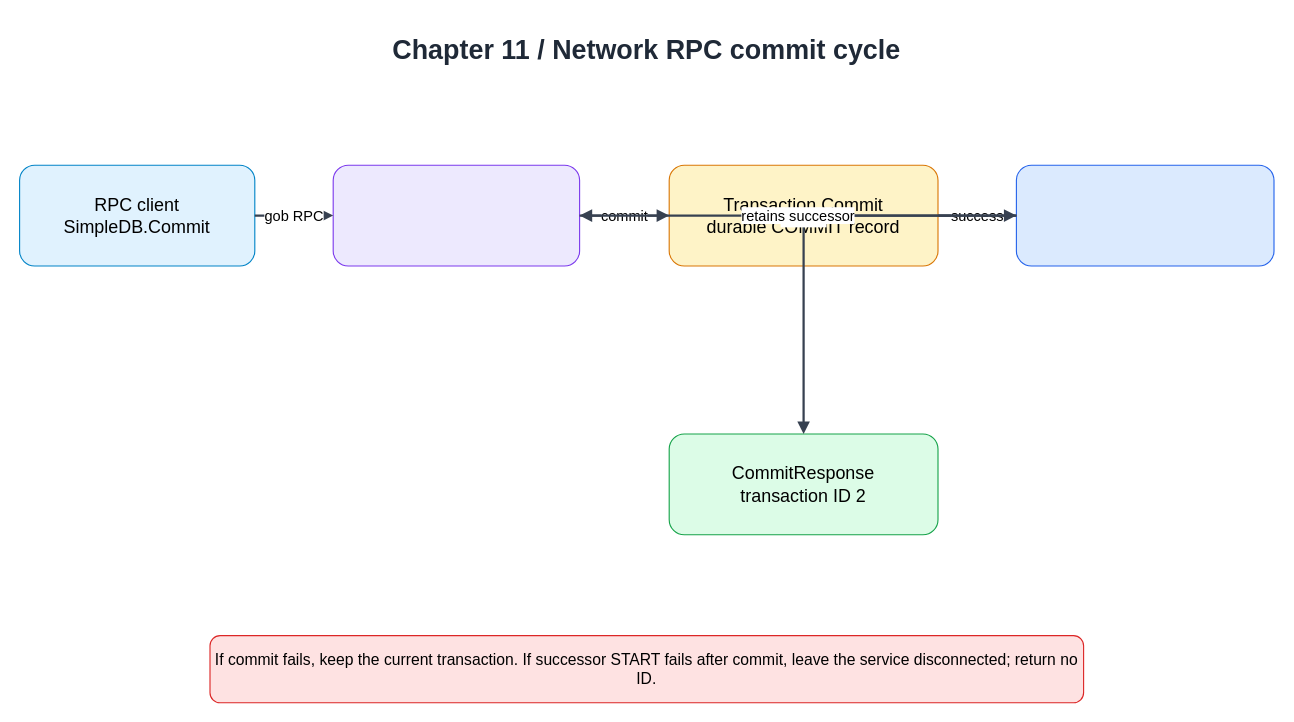
Image size: 1294x722. Some labels were removed from this diagram. Here are the shapes that lost their labels. From the top down, the centre of each, then its label:
[456,215]: DriverService retains transaction 1
[1144,215]: Managers.NewTransaction START transaction 2
